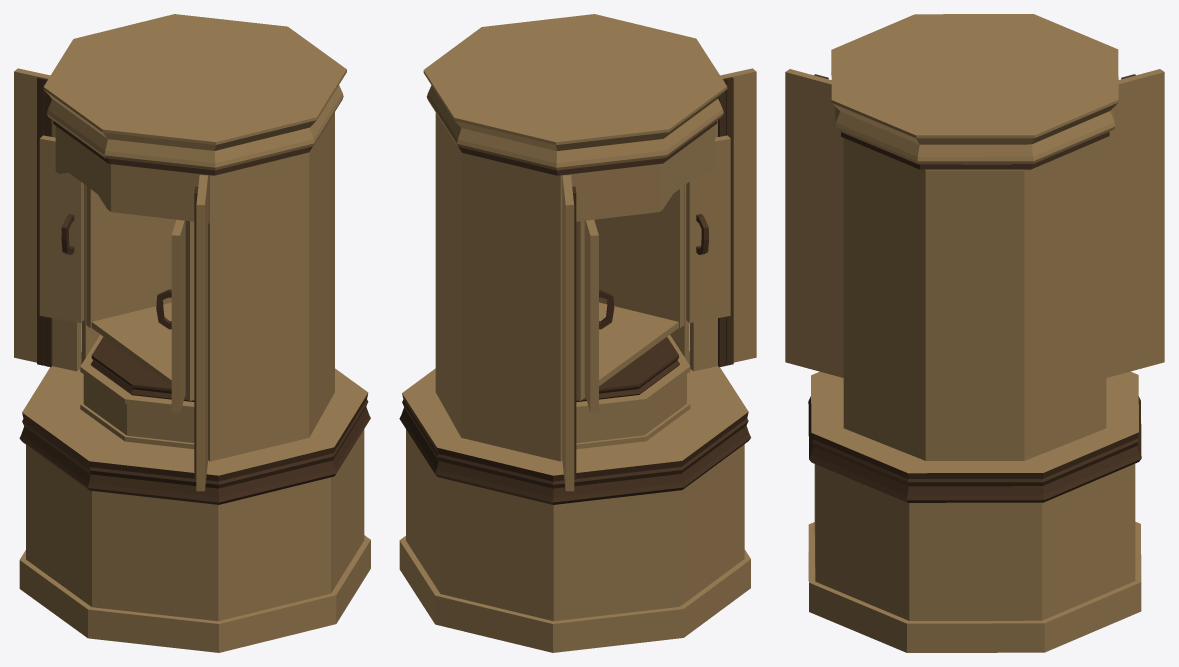
The model's file is Butsudan.fbx.
3 views of the same model, side by side, from view 1: azimuth 30°, elevation 25°; view 2: azimuth 150°, elevation 25°; view 3: azimuth 270°, elevation 25° (orthographic).
Parts seen in each view (by area): view 1: Cylinder.013; view 2: Cylinder.013; view 3: Cylinder.013.
Part boxes in pixels (x1,y1,x2,y2): Cylinder.013: (14, 14, 370, 652); Cylinder.013: (399, 14, 756, 652); Cylinder.013: (785, 14, 1164, 652).
Bounding box in the file's own units: 192 × 324 × 219.
